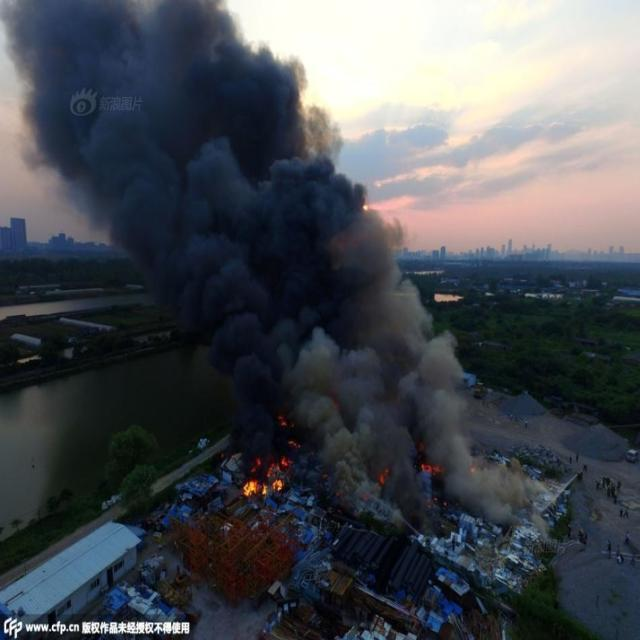Fire: (241, 455, 292, 497), (420, 462, 442, 474), (378, 465, 390, 485)
Smoke: (1, 1, 558, 545)
